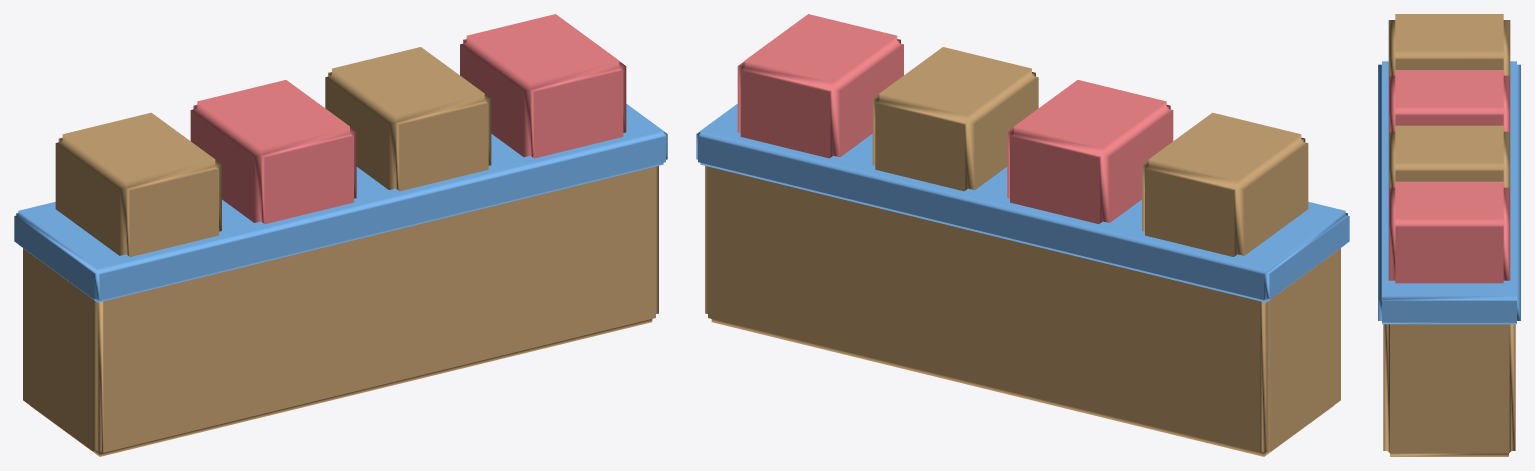
File: castle_wall_crenel.glb
The picture shows the model from 3 angles, left to right: view 1: azimuth 30°, elevation 25°; view 2: azimuth 150°, elevation 25°; view 3: azimuth 270°, elevation 25°; orthographic projection. The views are drawn at different scales.
Parts seen in each view (by area): view 1: WallBase, MidBand, Merlon_0, Merlon_3, Merlon_2, Merlon_1; view 2: WallBase, MidBand, Merlon_0, Merlon_3, Merlon_2, Merlon_1; view 3: WallBase, Merlon_3, MidBand, Merlon_2, Merlon_1, Merlon_0.
Boxes of the visible parts, <box> form: WallBase: <box>23,166,658,456</box>; MidBand: <box>14,104,667,302</box>; Merlon_0: <box>55,112,221,256</box>; Merlon_3: <box>460,14,626,158</box>; Merlon_2: <box>325,47,491,191</box>; Merlon_1: <box>190,80,356,223</box>; WallBase: <box>705,166,1340,456</box>; MidBand: <box>696,104,1349,302</box>; Merlon_0: <box>1142,112,1308,256</box>; Merlon_3: <box>737,14,903,158</box>; Merlon_2: <box>872,47,1038,191</box>; Merlon_1: <box>1007,80,1173,223</box>; WallBase: <box>1383,324,1515,456</box>; Merlon_3: <box>1388,181,1510,283</box>; MidBand: <box>1378,61,1520,324</box>; Merlon_2: <box>1388,125,1510,187</box>; Merlon_1: <box>1388,70,1510,131</box>; Merlon_0: <box>1388,14,1510,75</box>.
Bounding box in the file's own units: 4.26 × 1.89 × 1.08.
